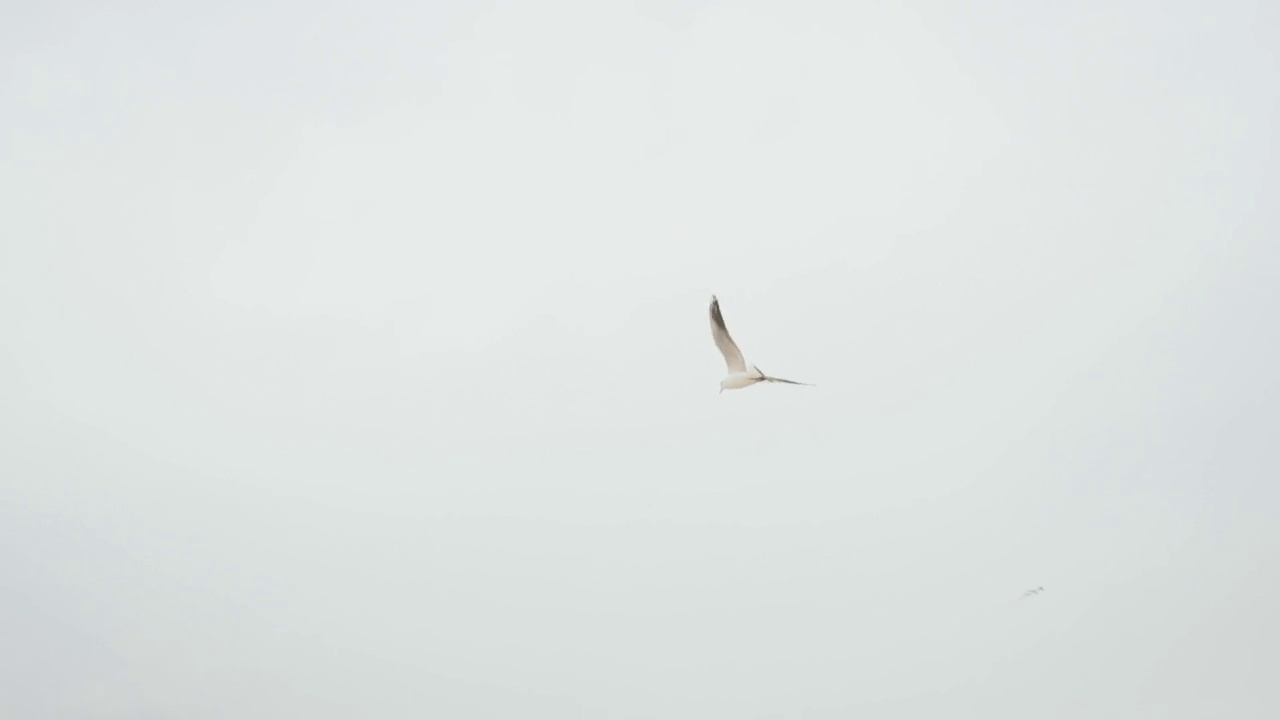bird: (708, 292, 812, 393)
